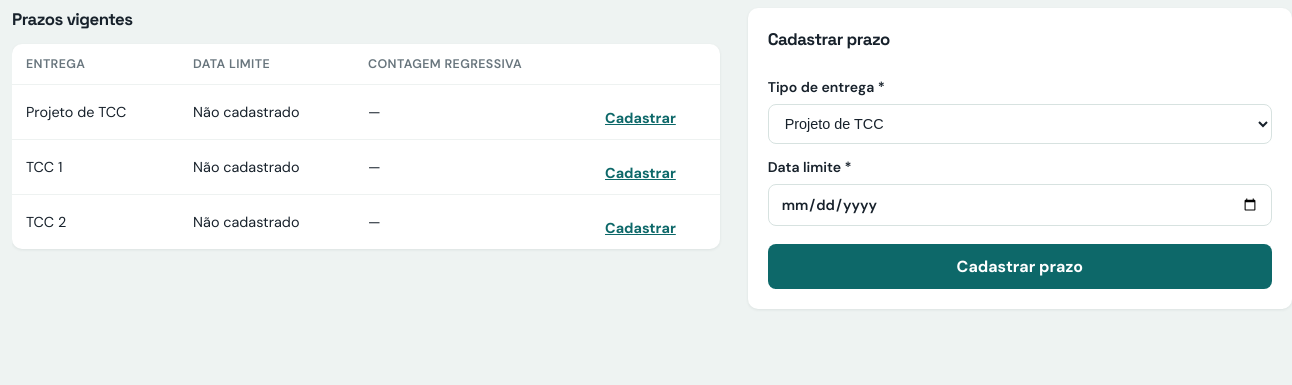
GestaoCalendario › deve cadastrar um novo prazo para um tipo ainda não cadastrado
Select "TCC 1" in the dropdown labelled "Tipo de entrega *": (1020, 124) [768,104,1272,144]
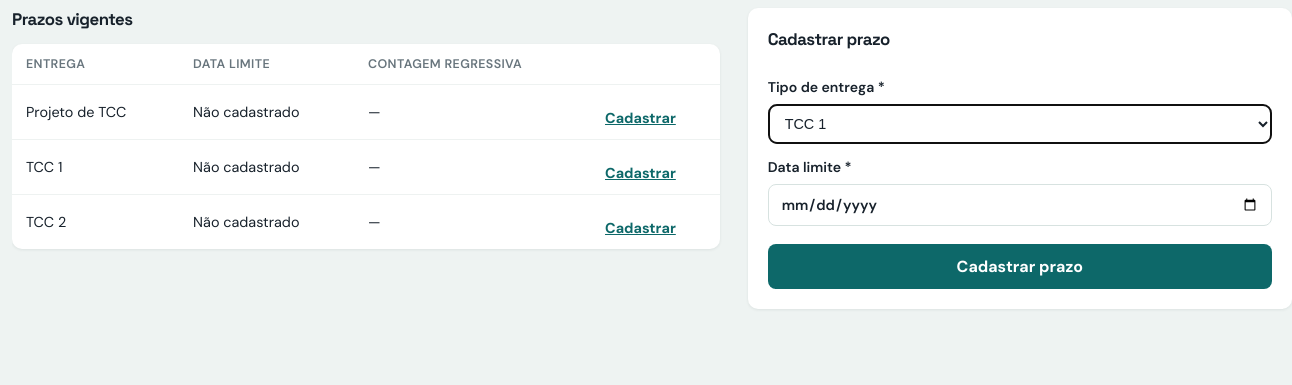
Check: the button "Cadastrar prazo" is shown, box [768,244,1272,289]
In the date field labelled "Data limite *": (1020, 205) [768,184,1272,226], type "2027-03-15"
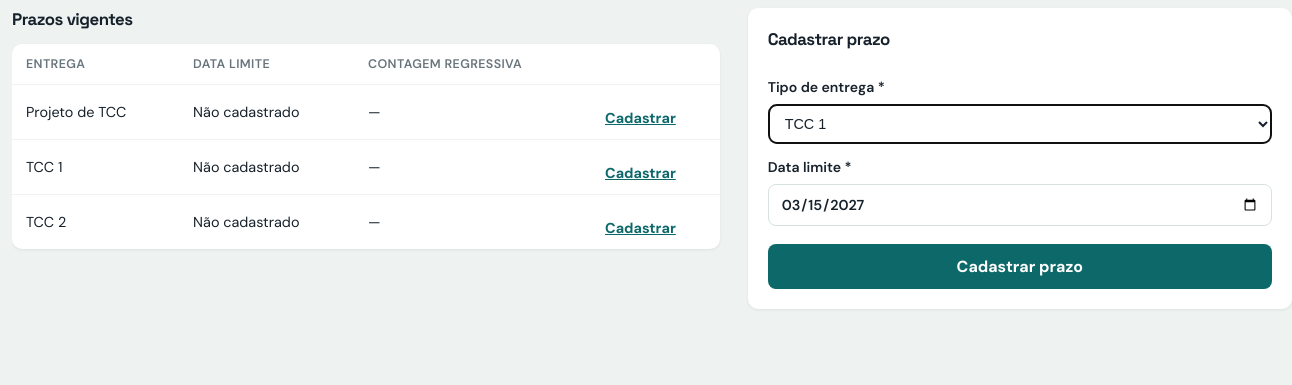
Click the button "Cadastrar prazo": (1020, 266) [768,244,1272,289]
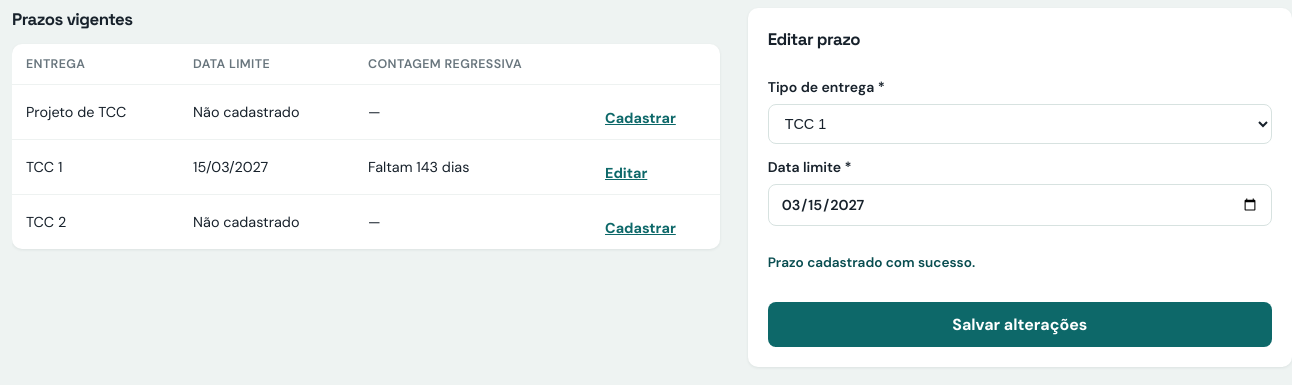
Check: the text "Prazo cadastrado com sucesso." is shown, box [768,254,975,271]
